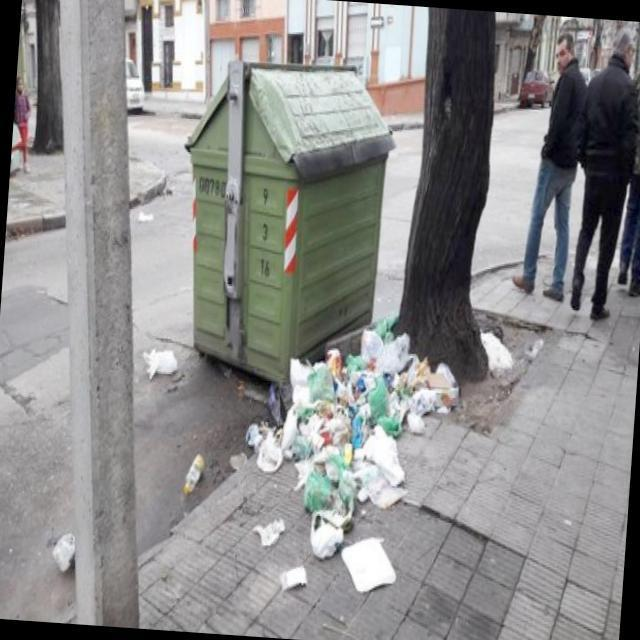garbage: (271, 354, 414, 602), (359, 314, 470, 448), (243, 368, 303, 459), (140, 342, 183, 382), (180, 450, 204, 496)
